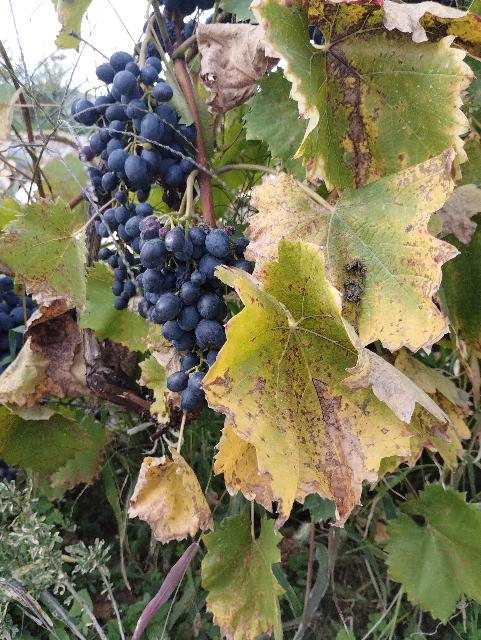grapes: (71, 51, 198, 254), (135, 204, 254, 414)
